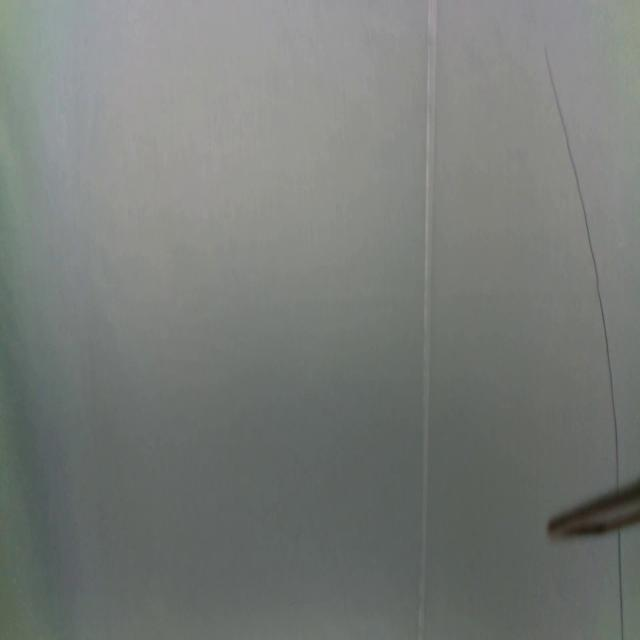crease: (545, 44, 622, 482), (416, 0, 437, 640), (616, 532, 626, 640)
